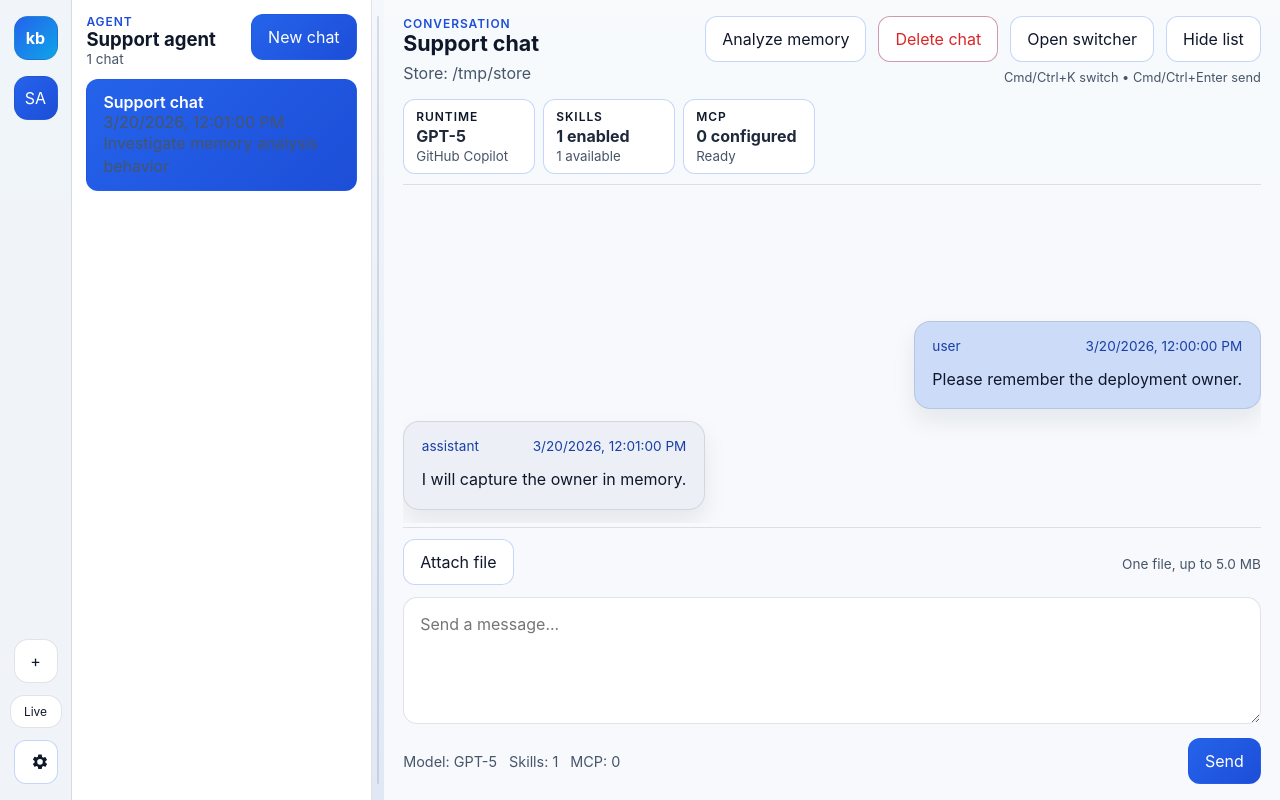
Test: App memory analysis › lets settings change the default chat model
The width and height of the screenshot is (1280, 800).
Click the button named "Open app settings": (36, 762) left=14, top=740, right=58, bottom=784
(page scrolled)
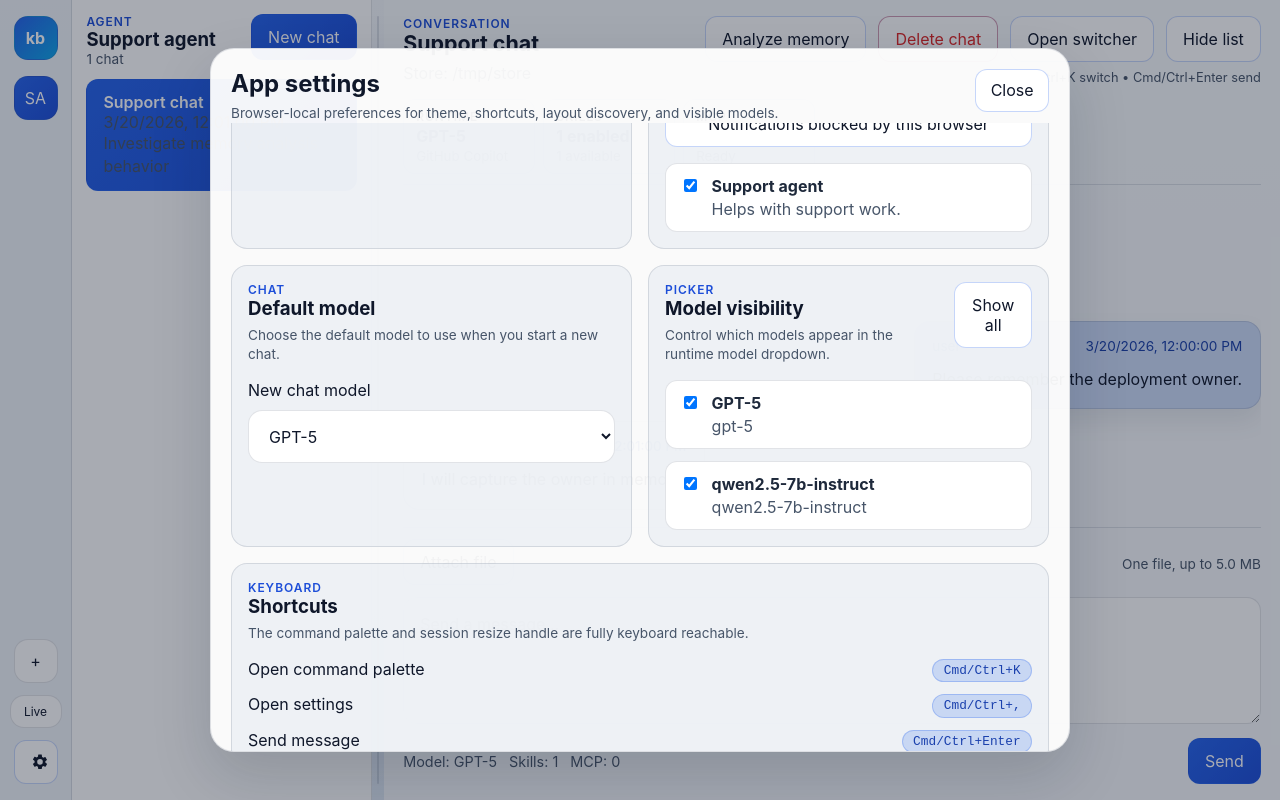
Expected: the dialog "App settings" is shown, left=210, top=48, right=1070, bottom=752
Select "qwen2.5-7b-instruct" in the dropdown labelled "New chat model": (432, 437) left=248, top=410, right=615, bottom=463
(page scrolled)
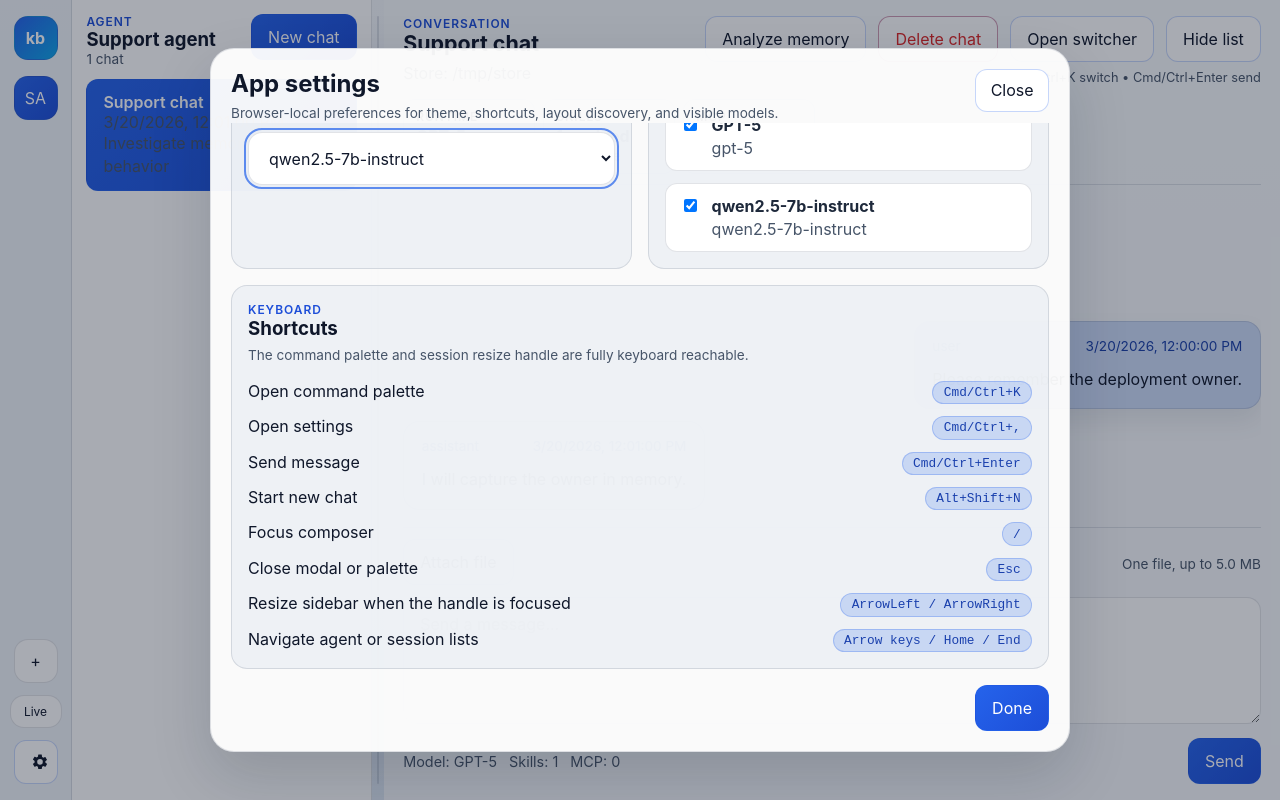
Click the button "Done": (1012, 708) left=975, top=685, right=1049, bottom=731
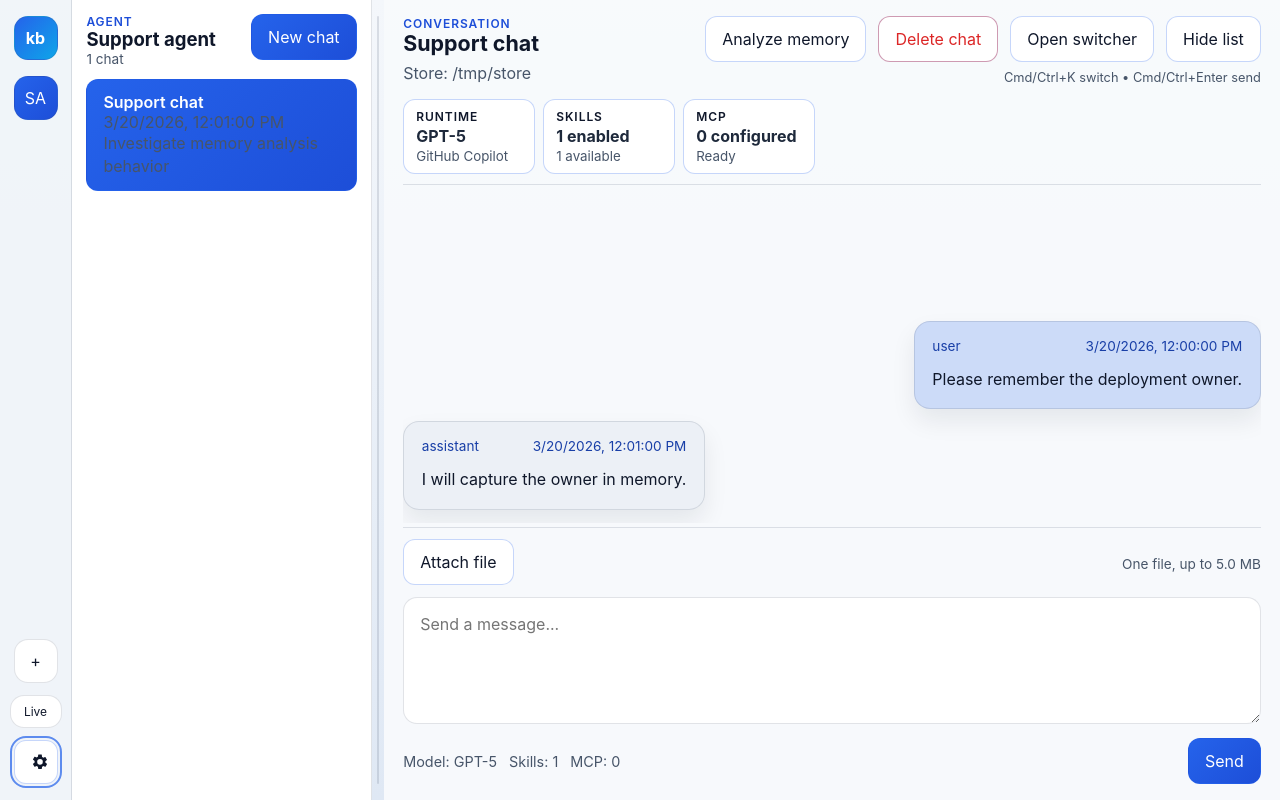
Type keys "{Alt>}{Shift>}N{/Shift}{/Alt}"
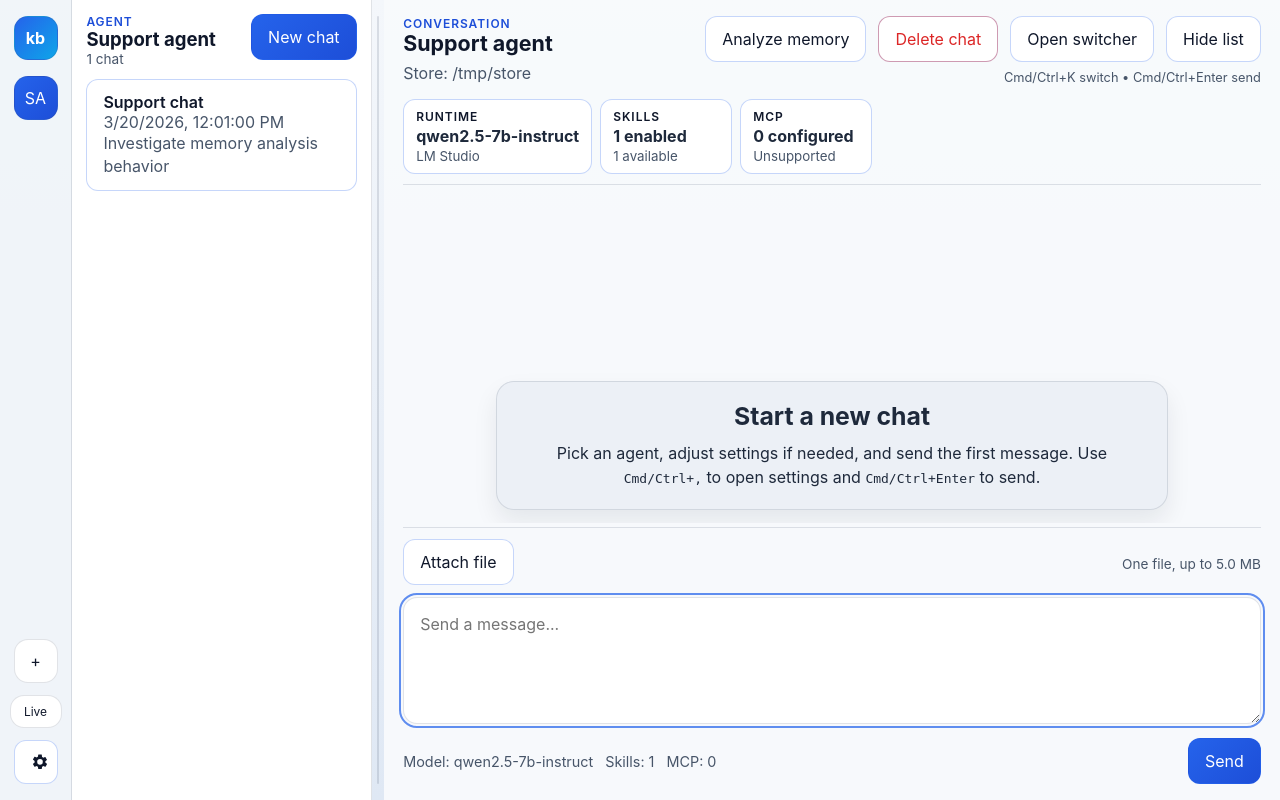
Expected: the text "Model: qwen2.5-7b-instruct" is shown, left=403, top=752, right=593, bottom=770
